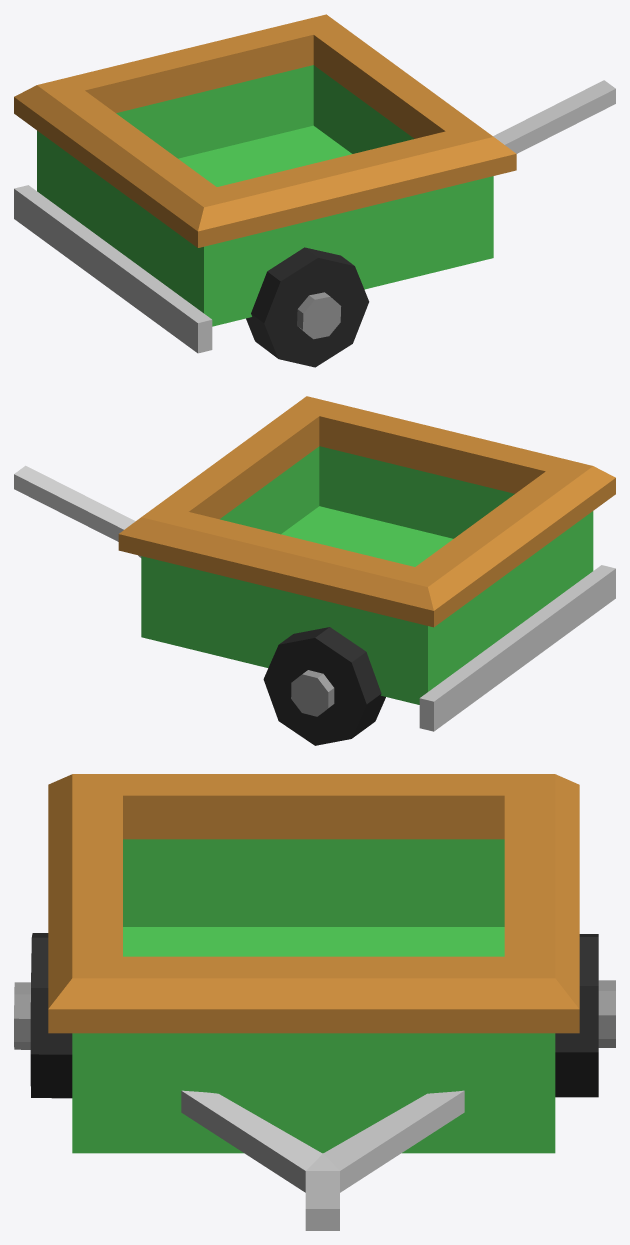
The model's file is Trailer.fbx.
3 renders of one model, top to bottom at view 1: azimuth 30°, elevation 25°; view 2: azimuth 150°, elevation 25°; view 3: azimuth 270°, elevation 25°, orthographic. The views are drawn at different scales.
Visible parts, largest first — view 1: Cube, wheel1; view 2: Cube, wheel3; view 3: Cube, wheel3, wheel1.
Part boxes in pixels (left/top/right/bottom): Cube: left=14, top=14, right=615, bottom=353; wheel1: left=246, top=247, right=369, bottom=367; Cube: left=14, top=396, right=615, bottom=731; wheel3: left=263, top=627, right=385, bottom=745; Cube: left=48, top=774, right=579, bottom=1230; wheel3: left=555, top=934, right=615, bottom=1097; wheel1: left=14, top=933, right=72, bottom=1098.
Bounding box in the file's own units: 350 × 115 × 249.
